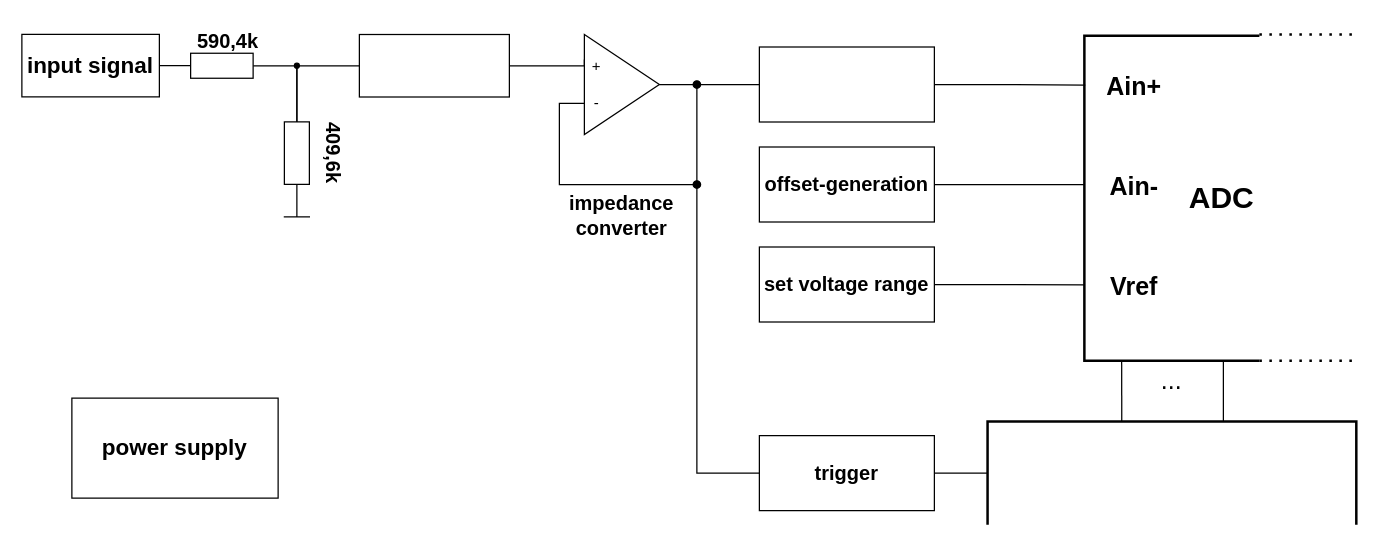
Image size: 1384x556. Some labels were removed from this diagram. Here are the shapes that lost their labels. From the top down, the centre of each, then its label:
(433,65): coupling
(846,84): anti-aliasing-filter
(1171,472): µController (firmware)
